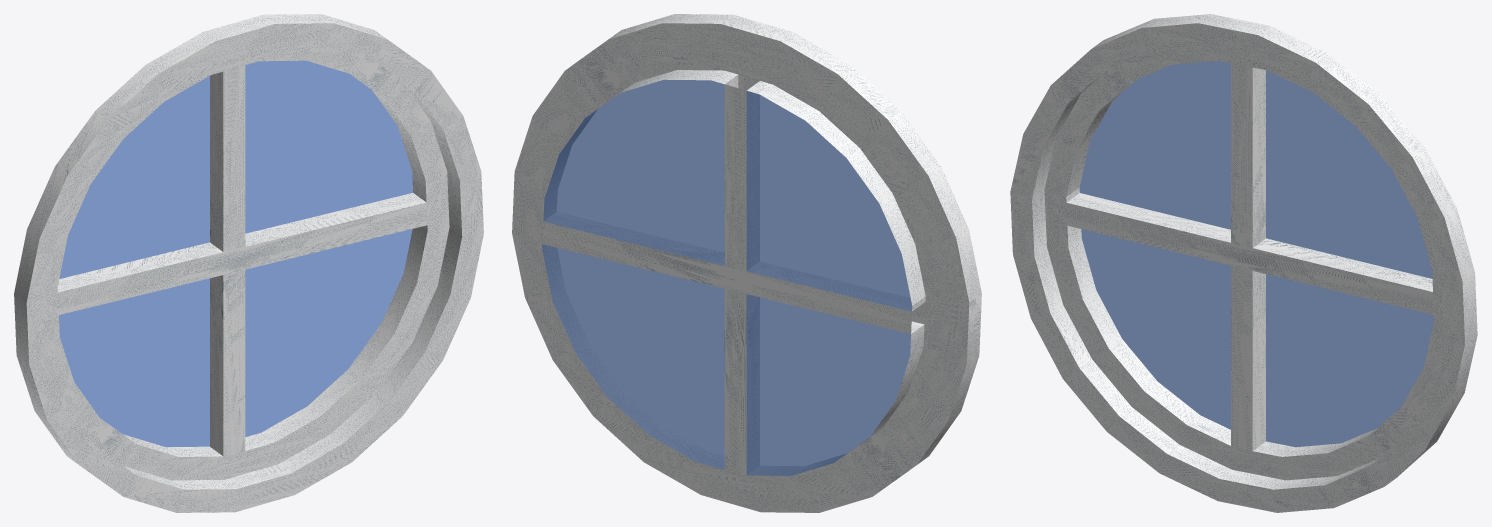
The picture shows the model from 3 angles, left to right: view 1: azimuth 30°, elevation 25°; view 2: azimuth 150°, elevation 25°; view 3: azimuth 330°, elevation 25°; orthographic projection.
Visible parts, largest first — view 1: group_0 (×7); view 2: group_0 (×7); view 3: group_0 (×7).
Part boxes in pixels (x1,y1,x2,y2): group_0 (×7): [14, 14, 483, 512]; group_0 (×7): [512, 14, 981, 512]; group_0 (×7): [1010, 14, 1477, 512].
Size of the model in its own units: 41.84 by 4.12 by 41.84.
